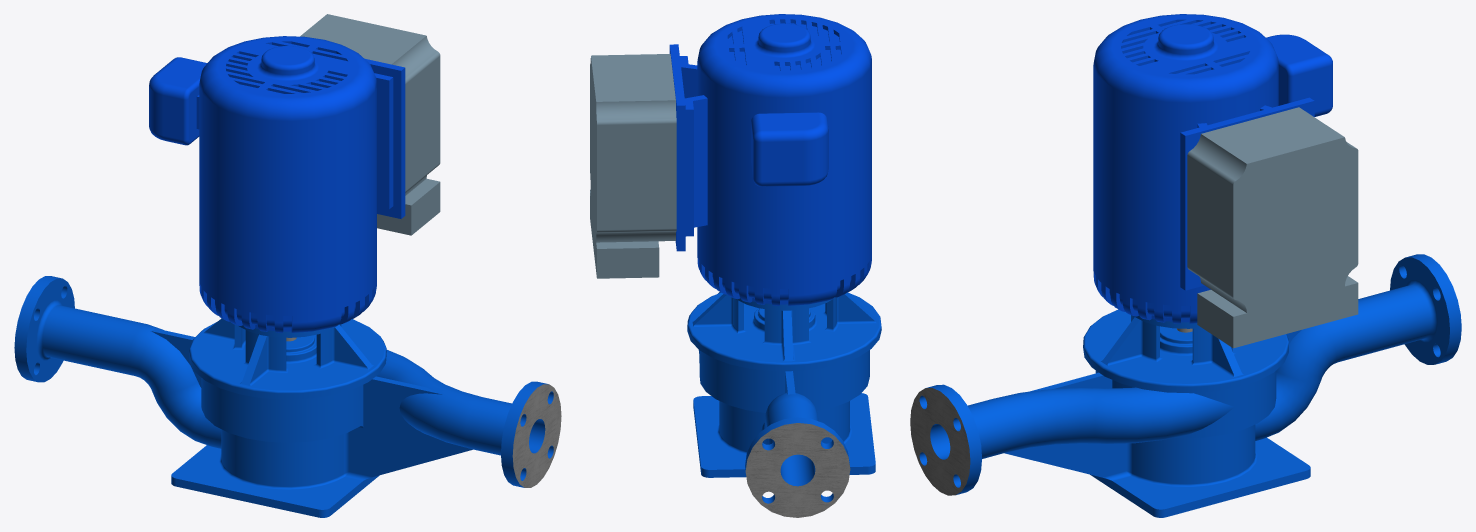
Rendered from Pump.glb.
The picture shows the model from 3 angles, left to right: view 1: azimuth 30°, elevation 25°; view 2: azimuth 150°, elevation 25°; view 3: azimuth 270°, elevation 25°; orthographic projection. The views are drawn at different scales.
Visible parts, largest first — view 1: PumpQREx; view 2: PumpQREx; view 3: PumpQREx.
Part boxes in pixels (box(x1,y1,x2,y2)): PumpQREx: box(14, 14, 561, 517); PumpQREx: box(590, 14, 881, 517); PumpQREx: box(910, 14, 1461, 517).
Size of the model in its own units: 22.42 by 25.63 by 29.73.
Materials: 5 (1 with a texture image).
